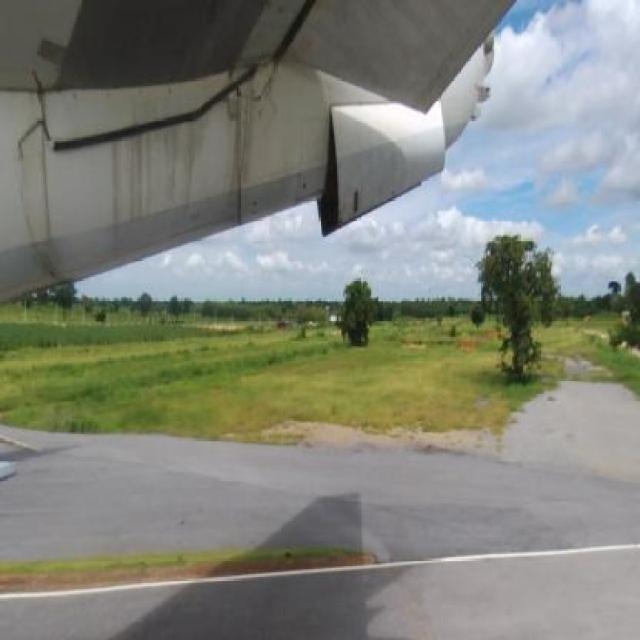Rust: (104, 104, 218, 236), (3, 88, 74, 287), (224, 70, 268, 238)
